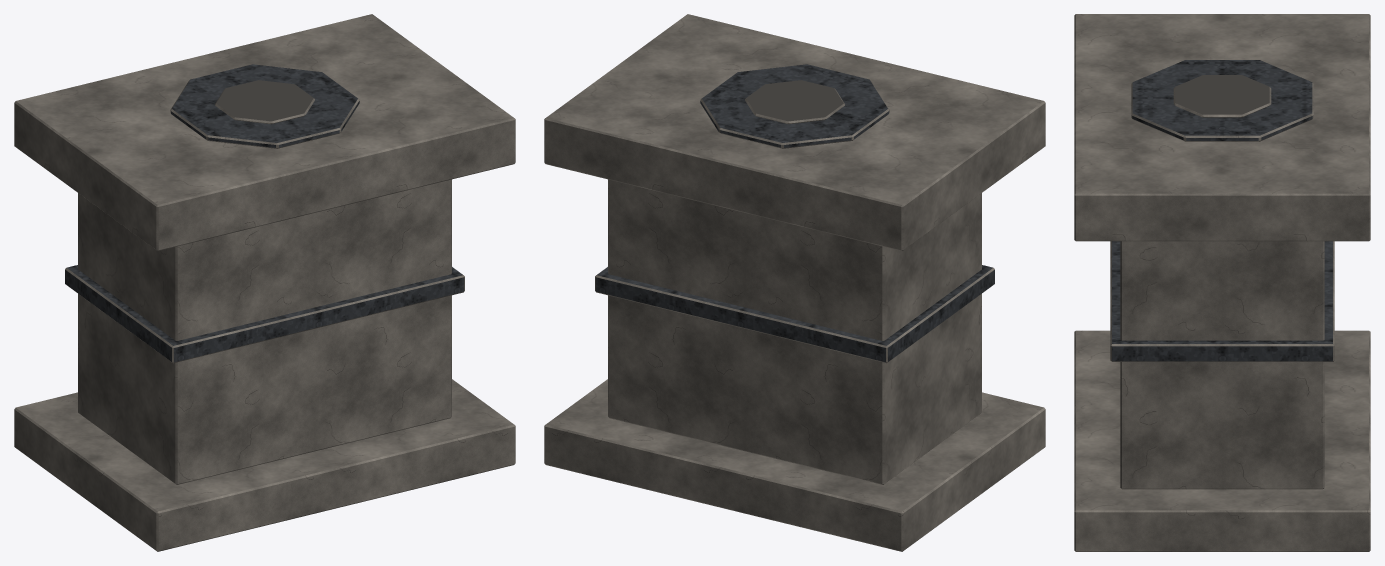
File: seal.glb
The picture shows the model from 3 angles, left to right: view 1: azimuth 30°, elevation 25°; view 2: azimuth 150°, elevation 25°; view 3: azimuth 270°, elevation 25°; orthographic projection. The views are drawn at different scales.
Visible parts, largest first — view 1: seal; view 2: seal; view 3: seal.
Boxes of the visible parts, x1,y1,x2,y2 form: seal: [14, 14, 515, 551]; seal: [544, 14, 1045, 551]; seal: [1074, 14, 1370, 551].
Bounding box in the file's own units: 1.3 × 1.23 × 0.9.
3 materials, 2 textured.
